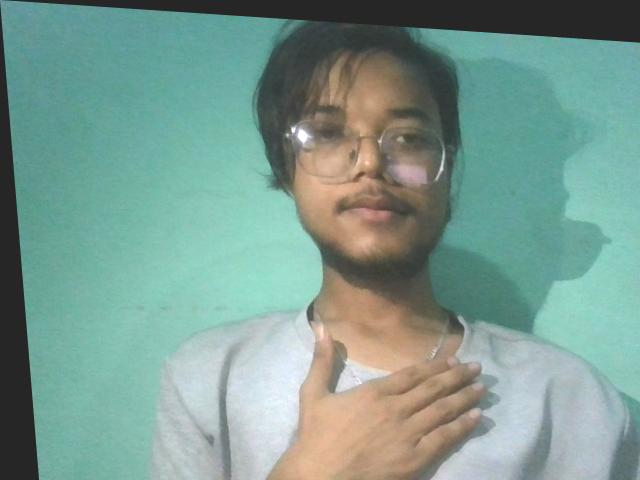Please: (206, 281, 575, 480)
